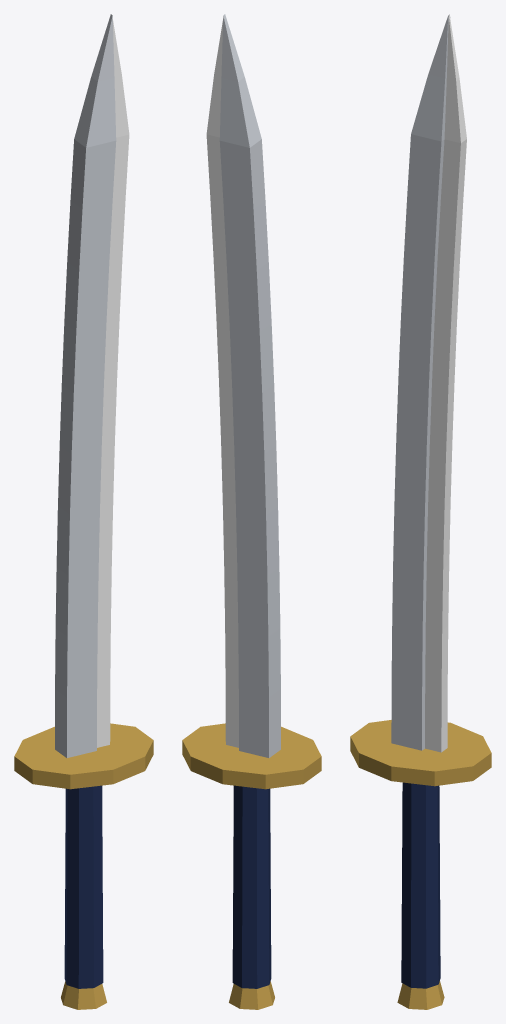
File: Sword_MarineSaber.fbx
The picture shows the model from 3 angles, left to right: view 1: azimuth 30°, elevation 25°; view 2: azimuth 150°, elevation 25°; view 3: azimuth 330°, elevation 25°; orthographic projection.
Visible parts, largest first — view 1: Sword_MarineSaber; view 2: Sword_MarineSaber; view 3: Sword_MarineSaber.
Part boxes in pixels (<box>): Sword_MarineSaber: <box>14,14,153,1009</box>; Sword_MarineSaber: <box>182,14,321,1009</box>; Sword_MarineSaber: <box>350,14,491,1009</box>.
Bounding box in the file's own units: 0.5231 × 4.04 × 0.44.
1 material, 1 textured.
